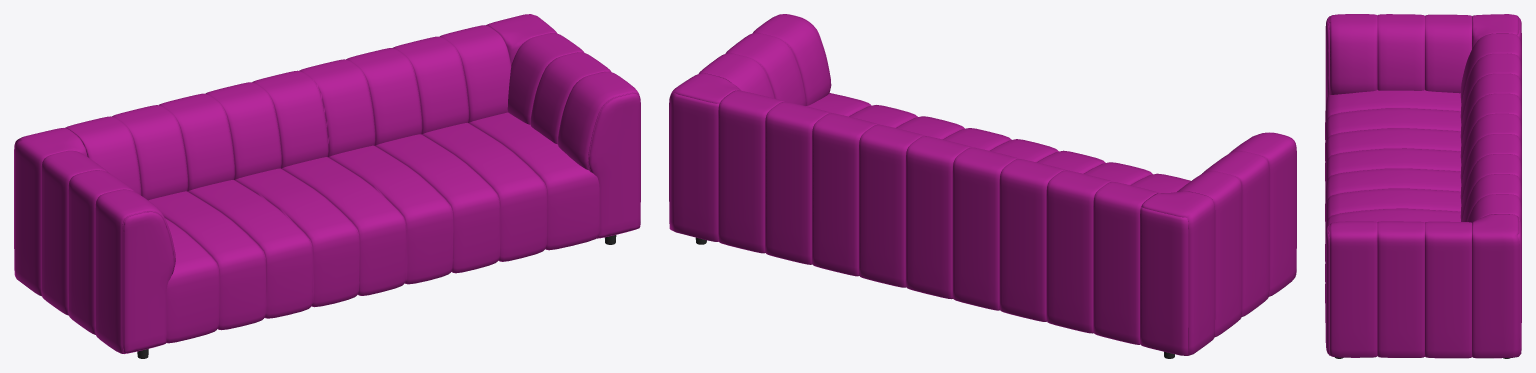
Rendered from Sofa Bellagio.obj.
3 views of the same model, side by side, from view 1: azimuth 30°, elevation 25°; view 2: azimuth 150°, elevation 25°; view 3: azimuth 270°, elevation 25° (orthographic). The views are drawn at different scales.
Visible parts, largest first — view 1: mesh_0; view 2: mesh_0; view 3: mesh_0.
Part boxes in pixels (x1,y1,x2,y2): mesh_0: [14, 14, 640, 353]; mesh_0: [669, 14, 1296, 355]; mesh_0: [1325, 14, 1521, 358].
Size of the model in its own units: 242 by 67.39 by 89.96.
